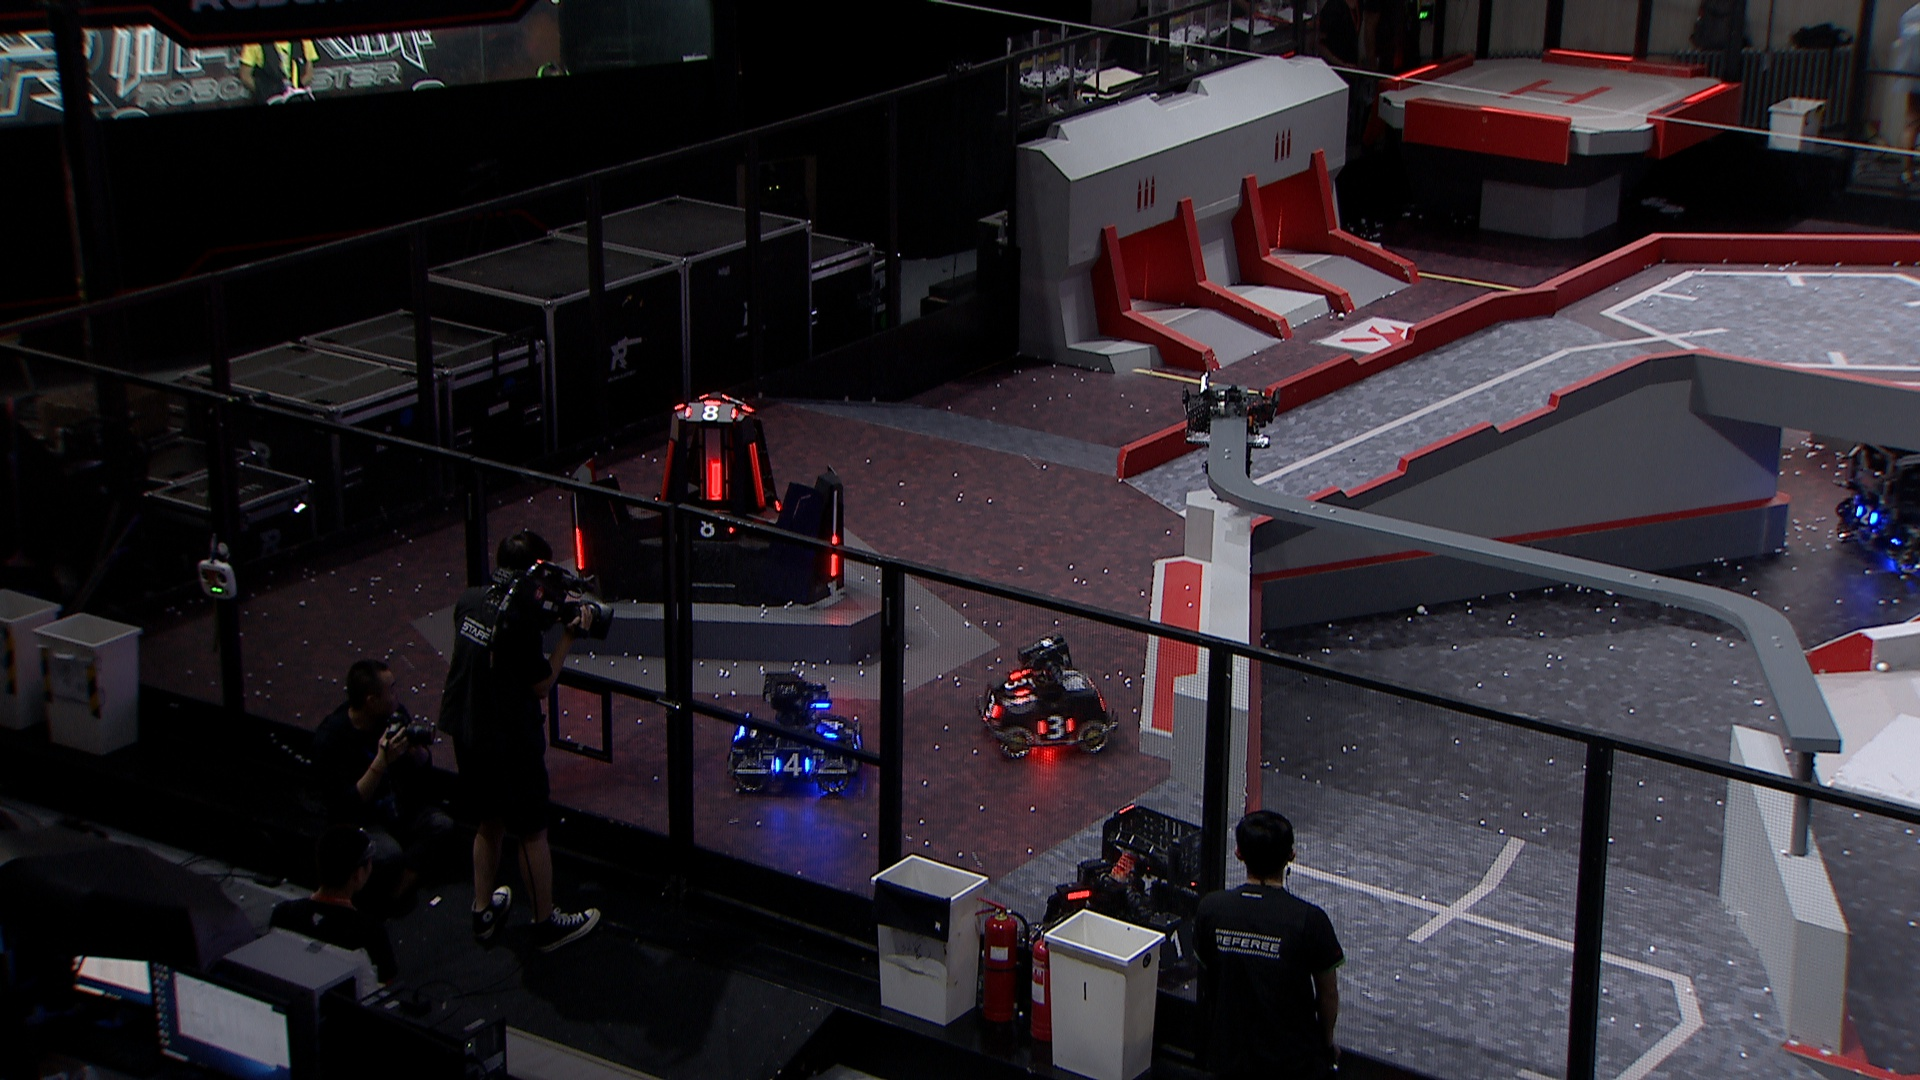armor: (657, 433, 676, 501), (749, 443, 769, 510), (678, 513, 731, 537), (1159, 924, 1191, 959), (684, 404, 736, 422), (828, 529, 844, 579), (771, 754, 808, 775), (1036, 717, 1077, 736), (707, 456, 723, 501), (1006, 670, 1029, 699), (572, 524, 585, 572), (1850, 504, 1876, 526), (981, 688, 1000, 717), (820, 713, 839, 740), (851, 731, 865, 756)
base: (564, 396, 851, 605)
car: (1039, 802, 1236, 982), (724, 669, 873, 794), (975, 632, 1114, 760), (1828, 425, 1920, 585)
watcher: (1179, 371, 1284, 489)
